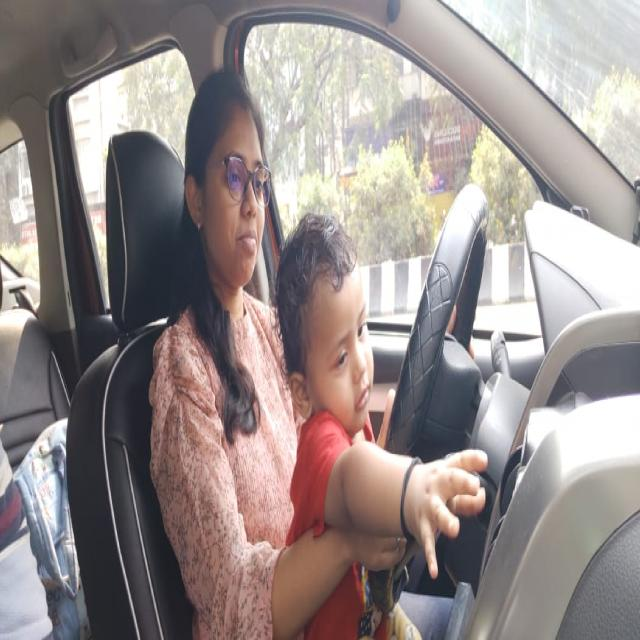child: (277, 204, 381, 443)
person: (181, 56, 274, 338)
